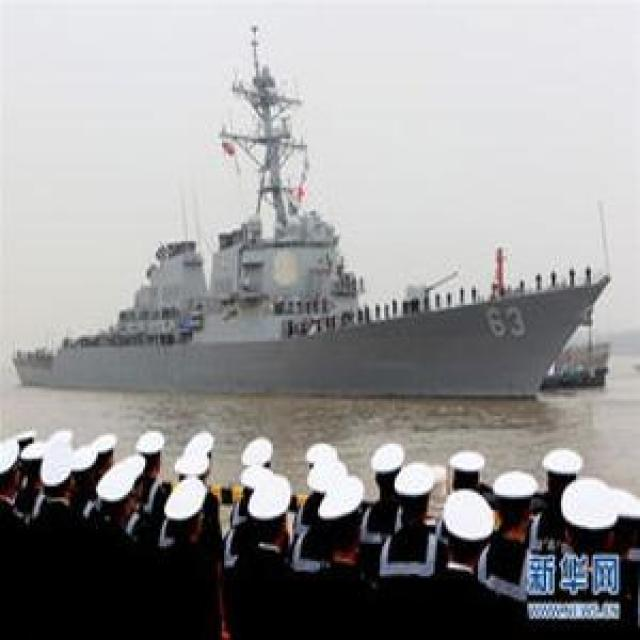navalvessels: (11, 39, 599, 430)
